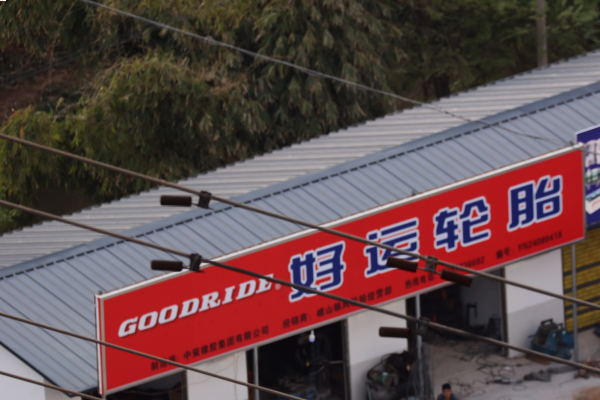damper: (384, 249, 474, 287)
damper_defect: (375, 312, 434, 343), (146, 251, 210, 277), (158, 187, 221, 213)
